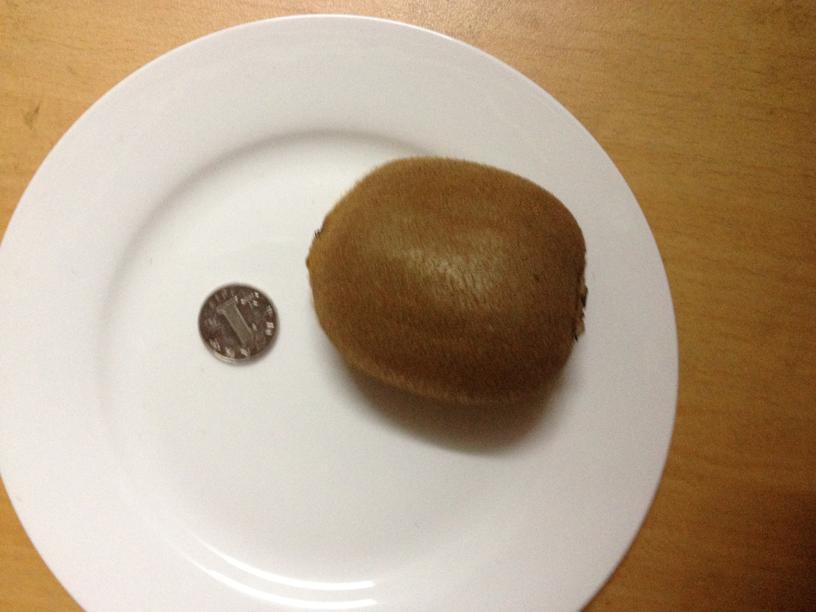coin: (197, 283, 277, 363)
qiwi: (306, 151, 589, 408)
